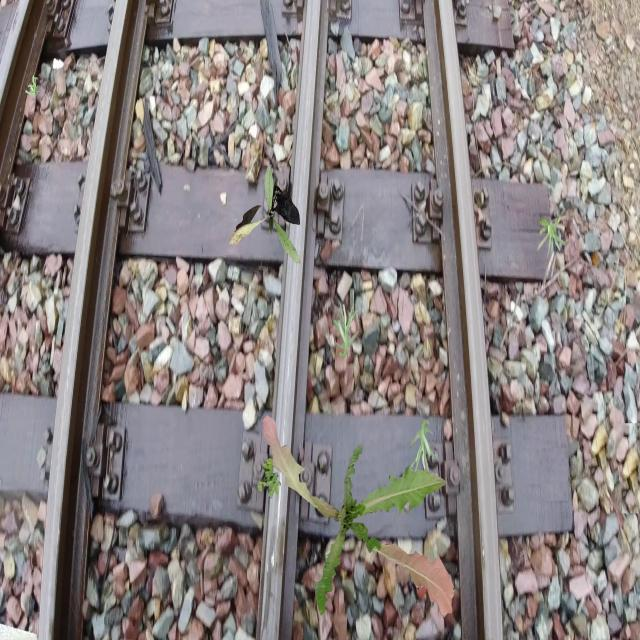Plant: (262, 415, 454, 618), (229, 164, 300, 264), (409, 419, 436, 476), (537, 214, 570, 260), (333, 302, 360, 358), (257, 458, 281, 499), (26, 75, 40, 96)
